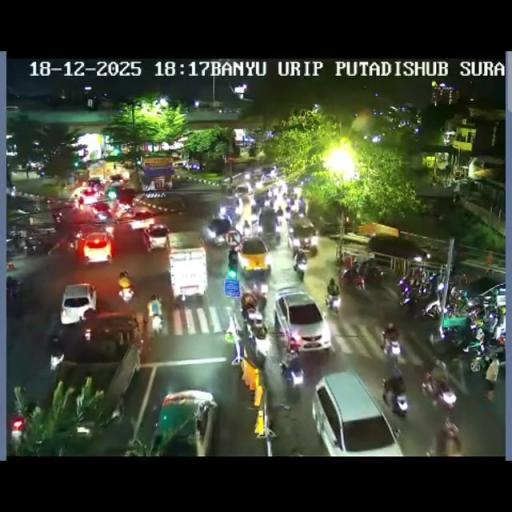Car: (311, 368, 405, 454), (54, 309, 140, 375), (150, 389, 218, 455), (271, 286, 330, 358), (166, 234, 209, 302), (235, 235, 271, 280), (60, 282, 97, 325), (284, 217, 318, 256), (80, 232, 114, 265), (201, 217, 234, 248), (144, 222, 170, 252), (110, 198, 136, 221), (90, 202, 114, 222), (259, 166, 280, 184), (234, 182, 253, 200), (80, 188, 99, 205), (88, 176, 102, 188), (109, 174, 124, 184), (173, 160, 188, 170)
Motorcycle: (458, 326, 504, 374), (421, 371, 456, 412), (402, 281, 436, 318), (426, 426, 462, 456), (428, 324, 456, 358), (280, 346, 304, 385), (438, 289, 470, 318), (48, 330, 66, 368), (340, 266, 366, 291), (10, 413, 26, 453), (389, 386, 408, 416), (363, 265, 385, 289), (248, 278, 270, 302), (259, 220, 279, 246), (325, 278, 340, 310), (249, 314, 267, 340), (480, 310, 498, 336), (382, 336, 402, 358), (6, 276, 23, 299), (6, 235, 23, 257), (150, 309, 164, 335), (466, 304, 486, 322), (451, 270, 469, 289), (252, 195, 268, 216), (293, 256, 306, 281), (410, 266, 424, 289), (118, 282, 132, 304), (24, 236, 40, 254), (228, 246, 238, 272), (398, 273, 412, 291), (67, 233, 79, 250), (250, 213, 262, 229), (242, 219, 252, 236), (296, 199, 306, 216), (275, 208, 284, 226), (334, 251, 344, 267), (226, 182, 236, 198), (52, 210, 63, 224), (104, 224, 114, 238), (284, 205, 291, 217)
